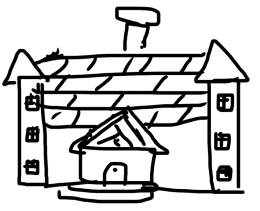big_house: (0, 1, 260, 211)
chimney: (107, 1, 169, 57)
closed_window: (214, 89, 236, 118), (212, 129, 232, 153), (25, 119, 43, 145), (23, 91, 42, 114)
door: (99, 157, 138, 190)
roof: (0, 37, 248, 89)
wall: (35, 69, 218, 198)
